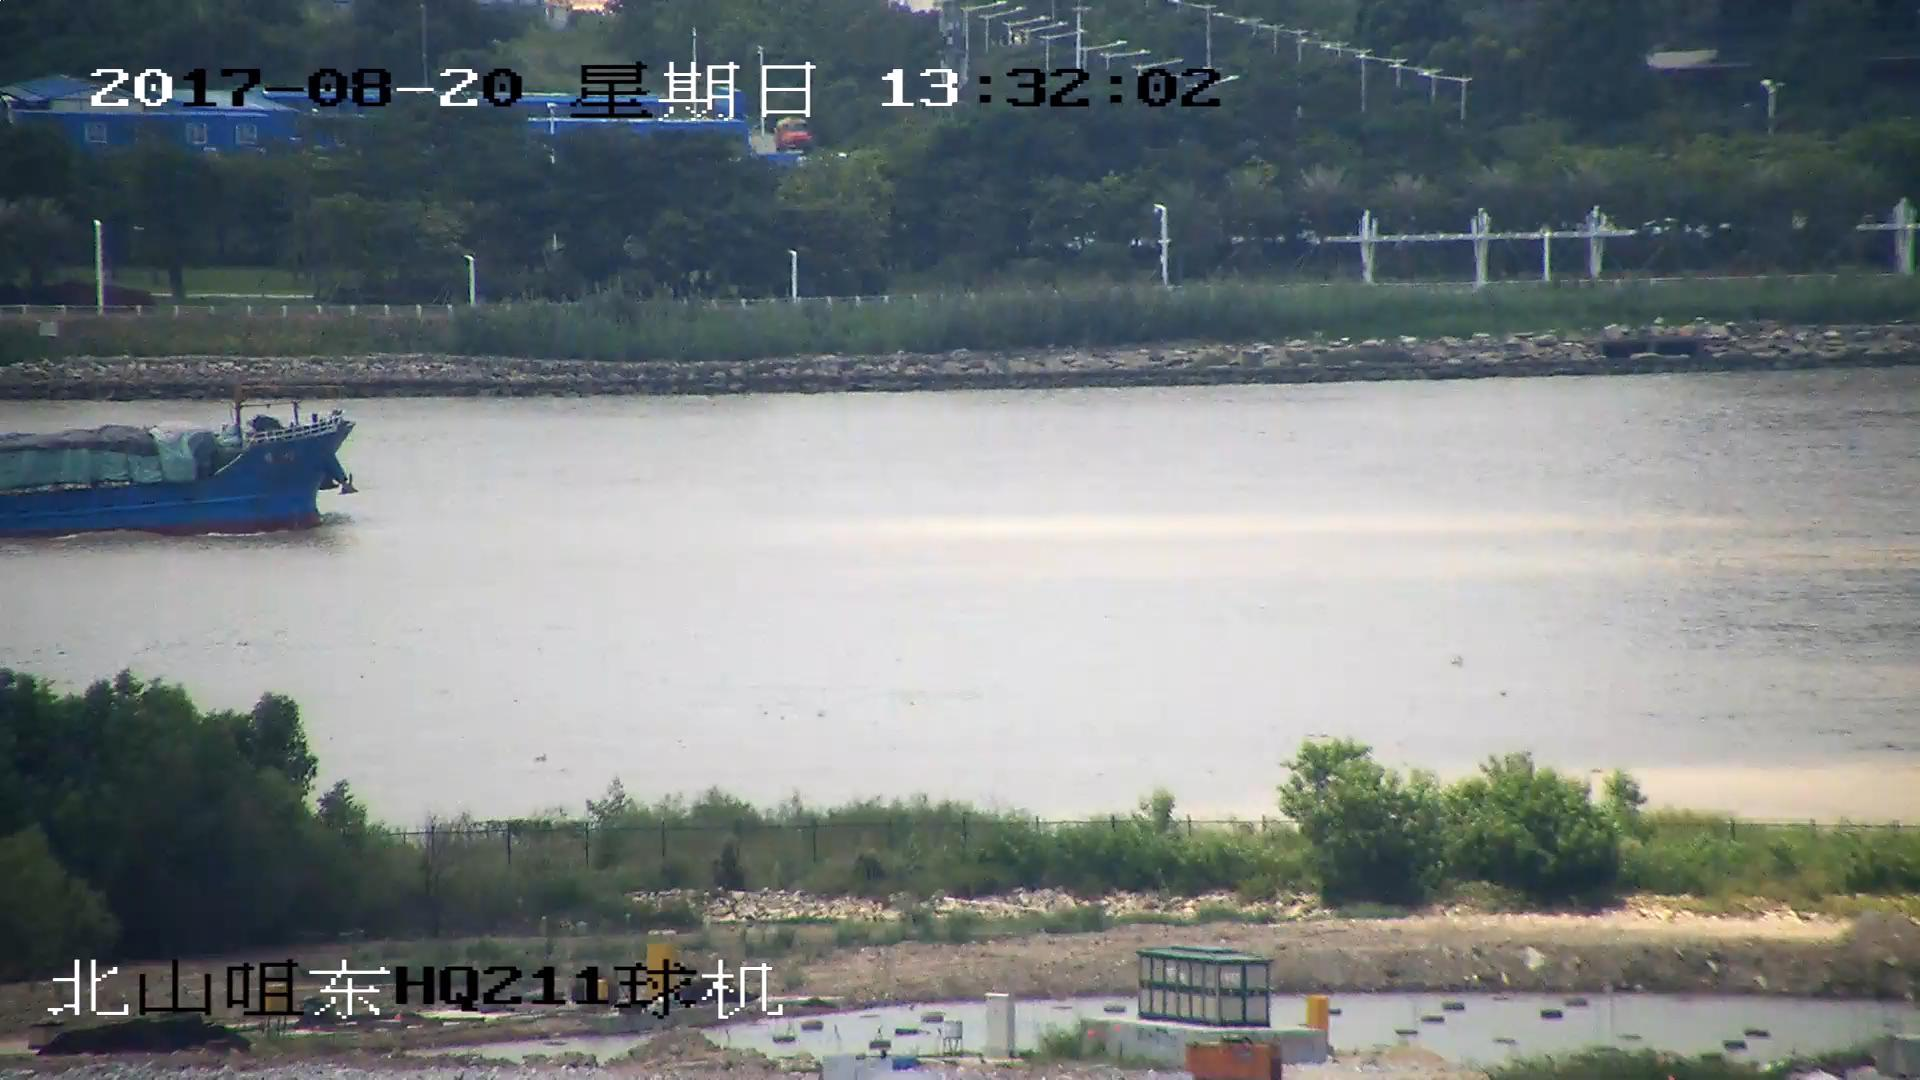Ship: (3, 405, 353, 543)
